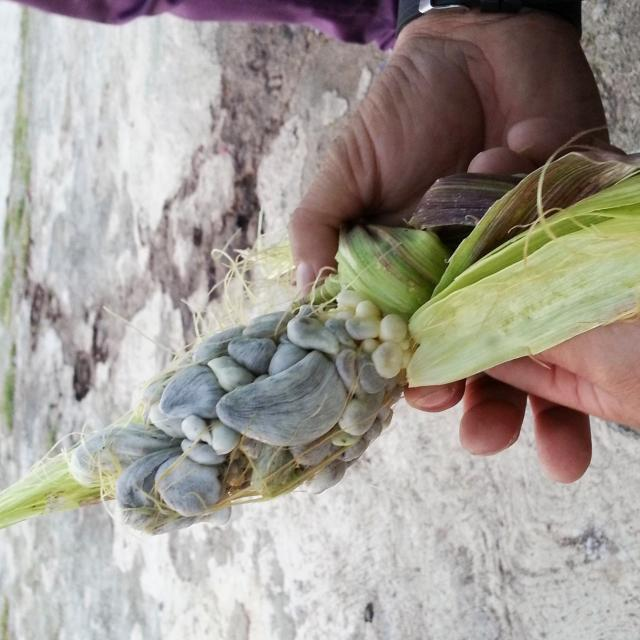Leaf_Scald: (100, 257, 431, 571)
